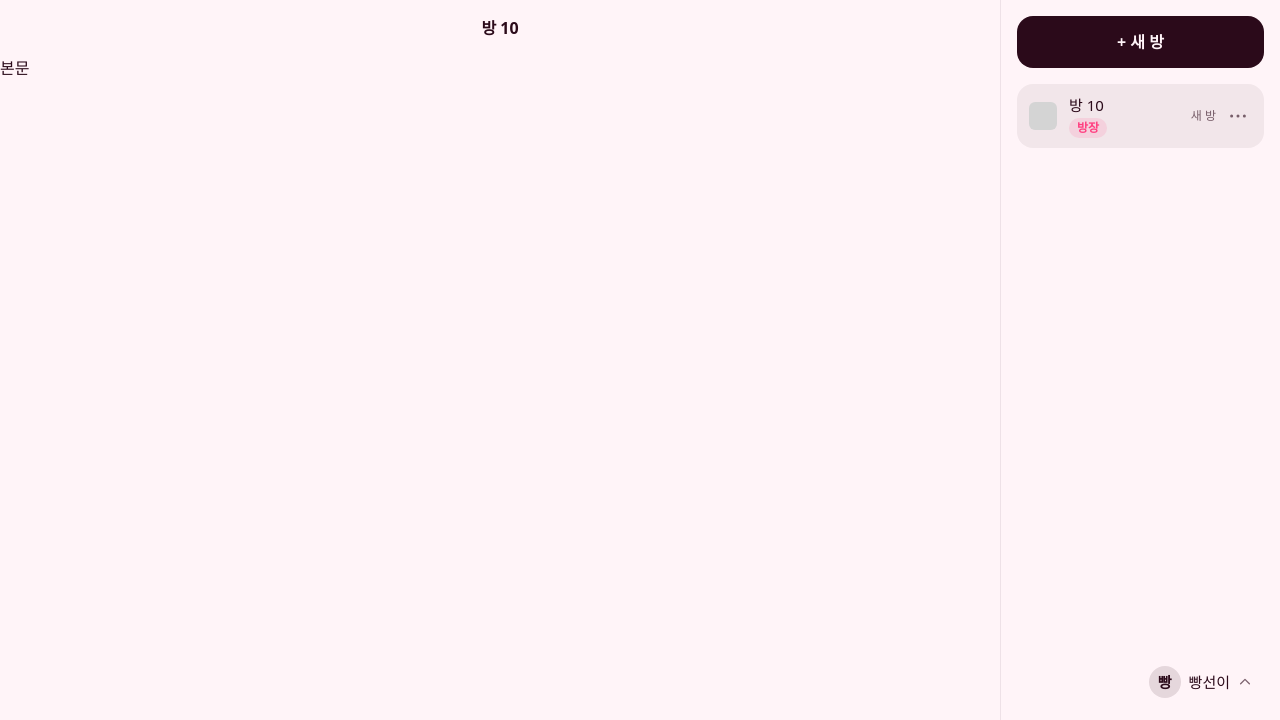
Test: ChatShell 설정 진입 (실제 Sidebar) › Safari: 클릭이 포커스를 안 옮겨도(relatedTarget null) 메뉴가 안 닫히고 설정이 열린다 (T-032 실측)
The image size is (1280, 720).
Click the button "빵 빵선이" at (1203, 682), box [1143,660,1264,704]
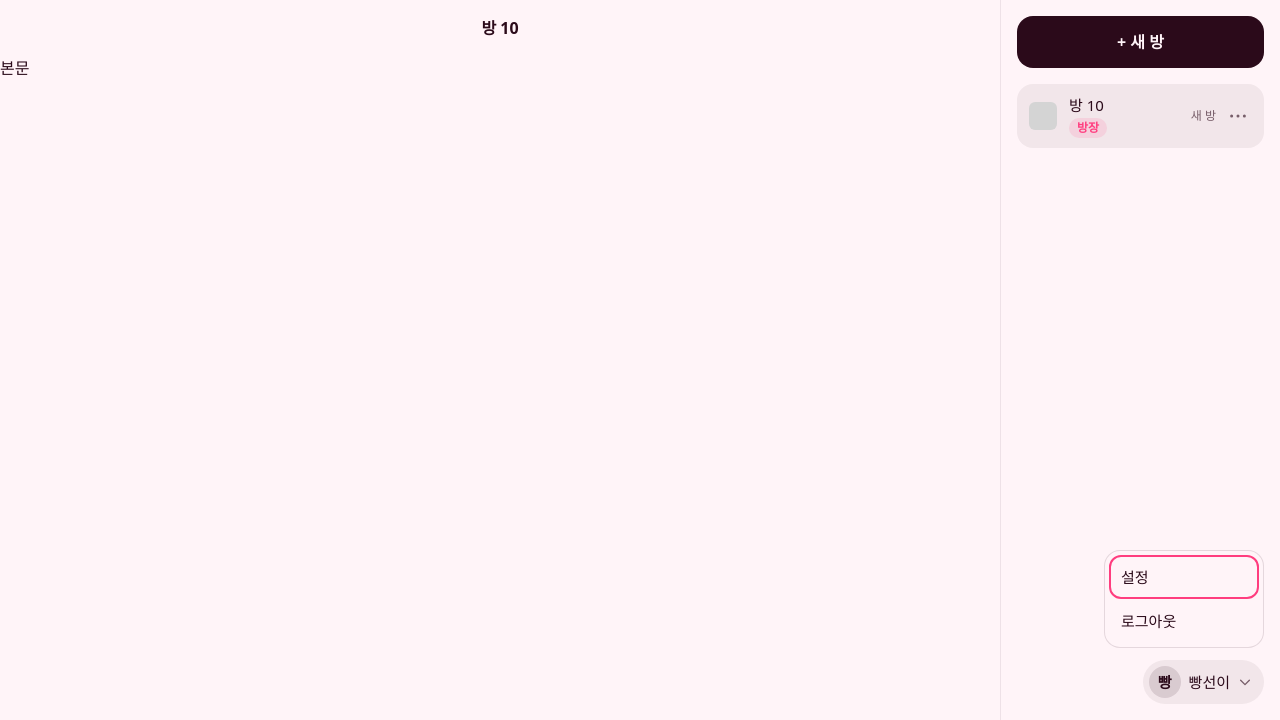
Leave the menu named "계정", box [1104,550,1264,648]
expect the menu item "설정" is shown: met
Click the menu item "설정" at (1184, 577), box [1109,555,1259,599]
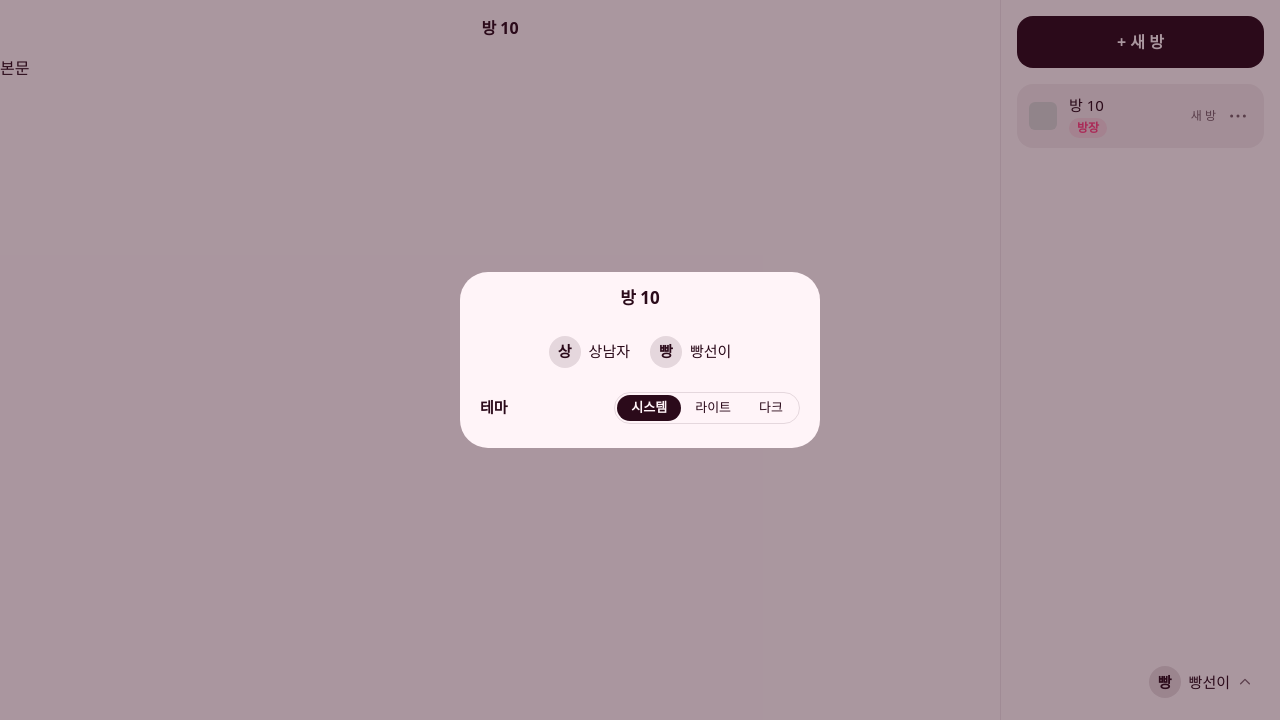
expect the dialog named "설정" is shown: met, box [460,272,820,448]
